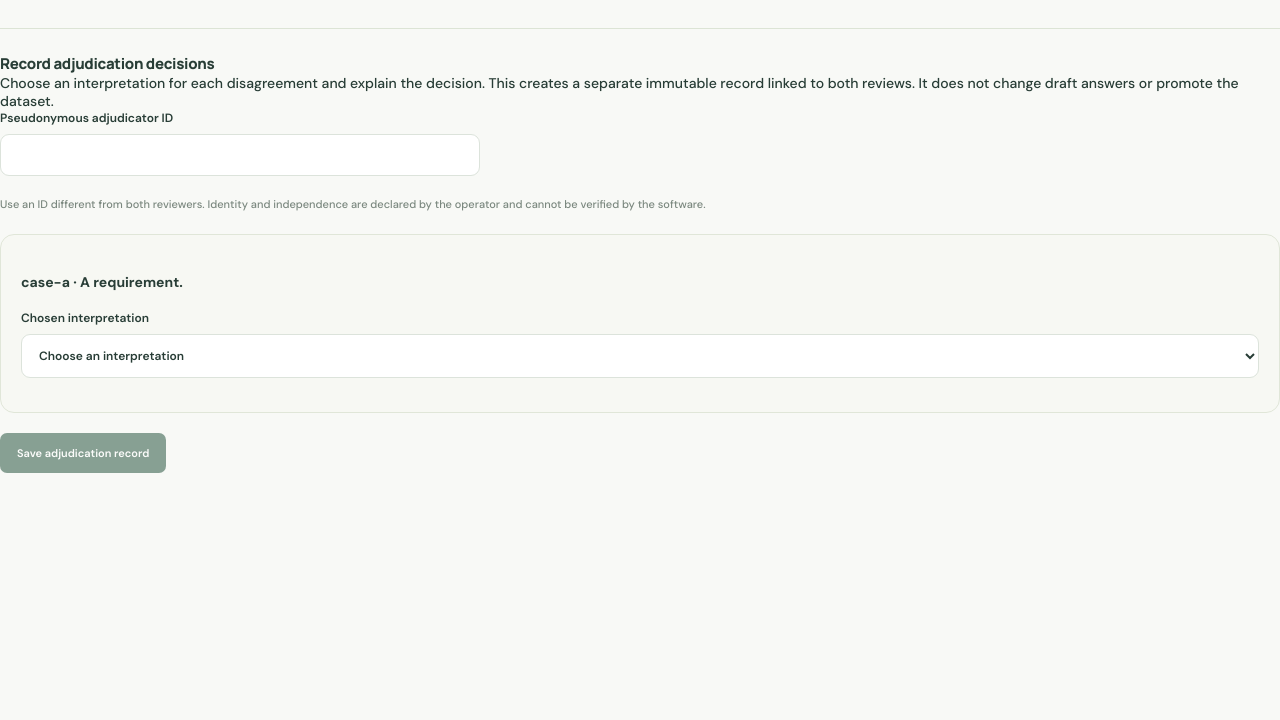
invalid custom JSON is rejected before submission
Type "third-reviewer" into the field labelled "Pseudonymous adjudicator ID" at {"x": 240, "y": 155}, box [0,134,480,176]
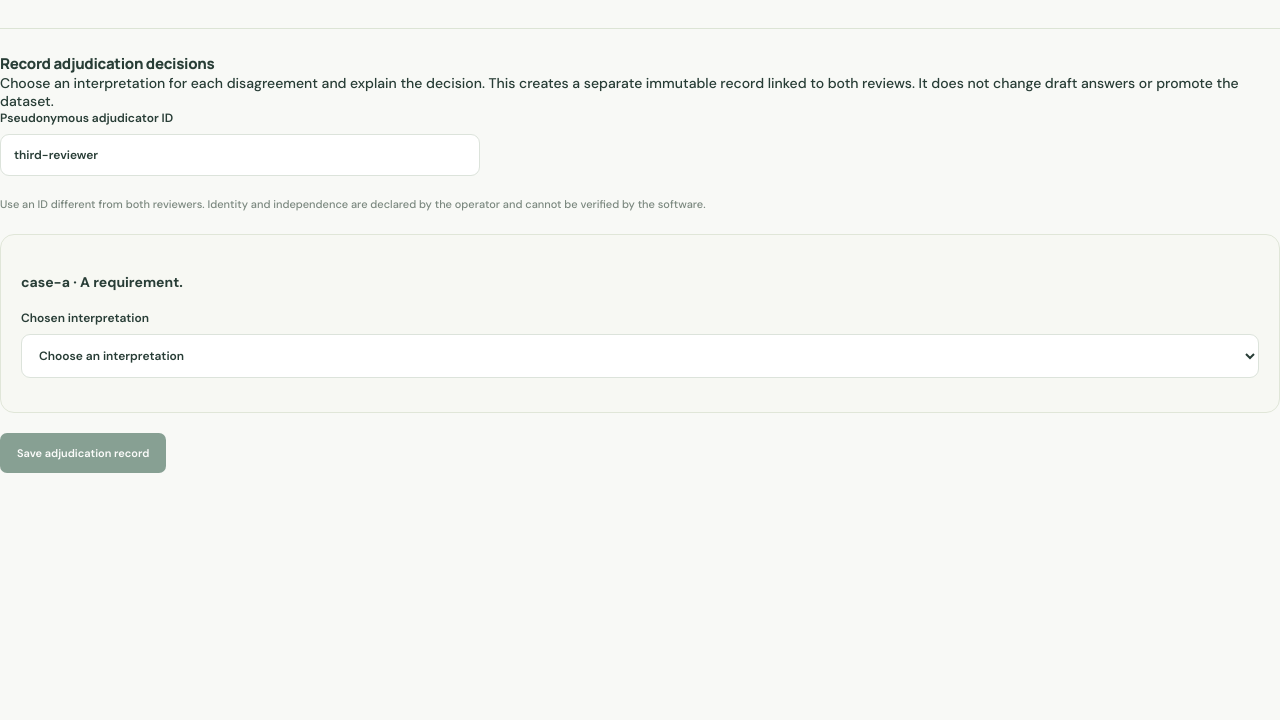
Select "Custom corrected annotation" in the dropdown named "Chosen interpretation case-a" at {"x": 640, "y": 356}, box [21,334,1259,378]
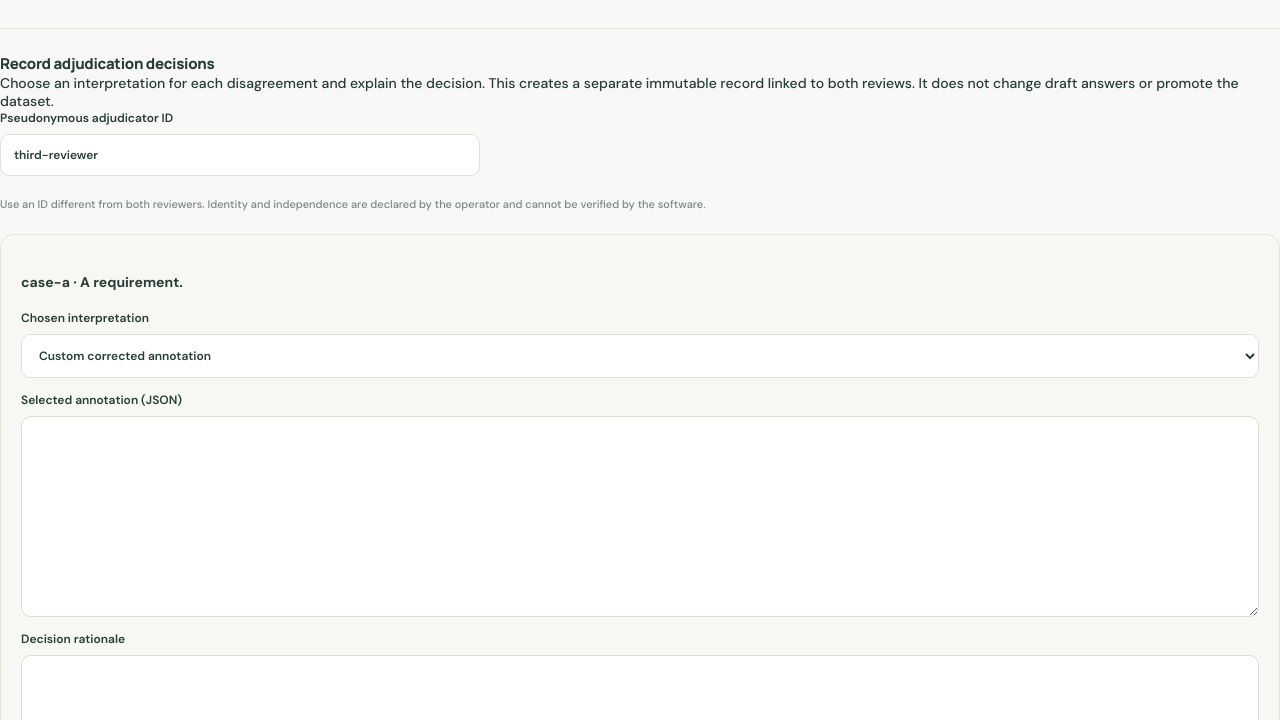
Type "not json" into the text box named "Annotation case-a" at {"x": 640, "y": 517}, box [21,416,1259,617]
(page scrolled)
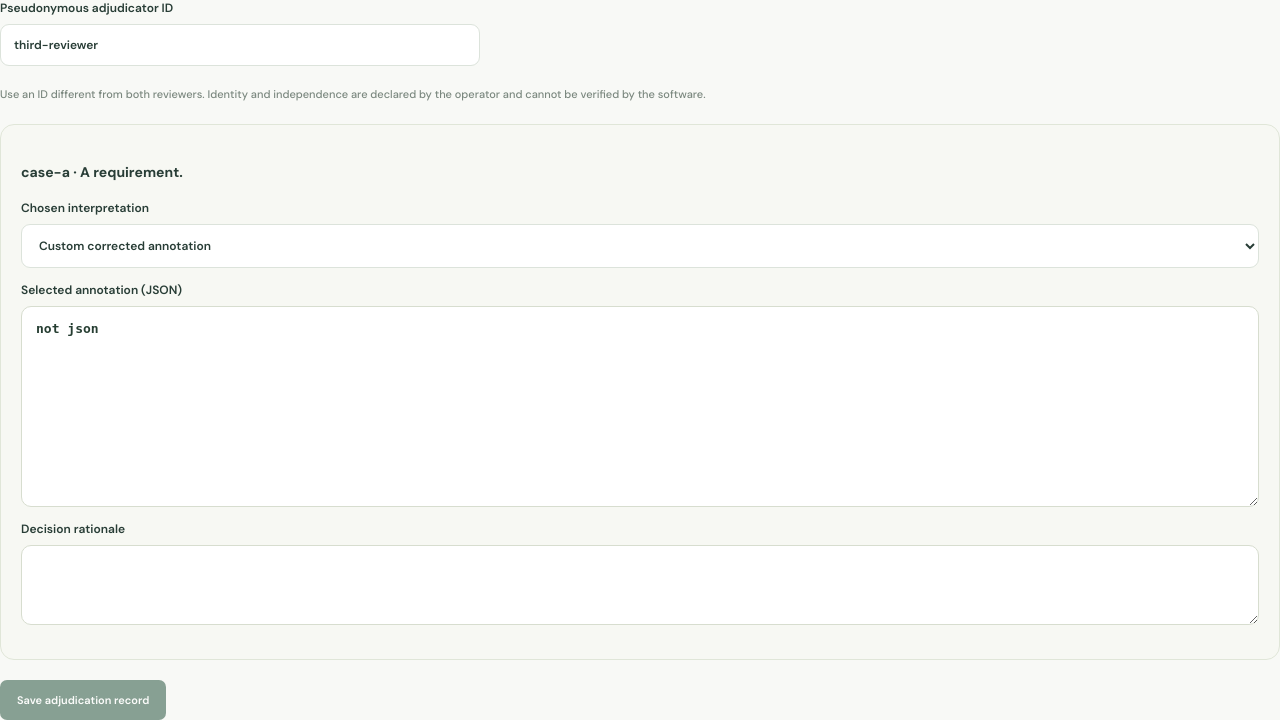
Type "Rationale." into the text box named "Decision rationale case-a" at {"x": 640, "y": 585}, box [21,545,1259,625]
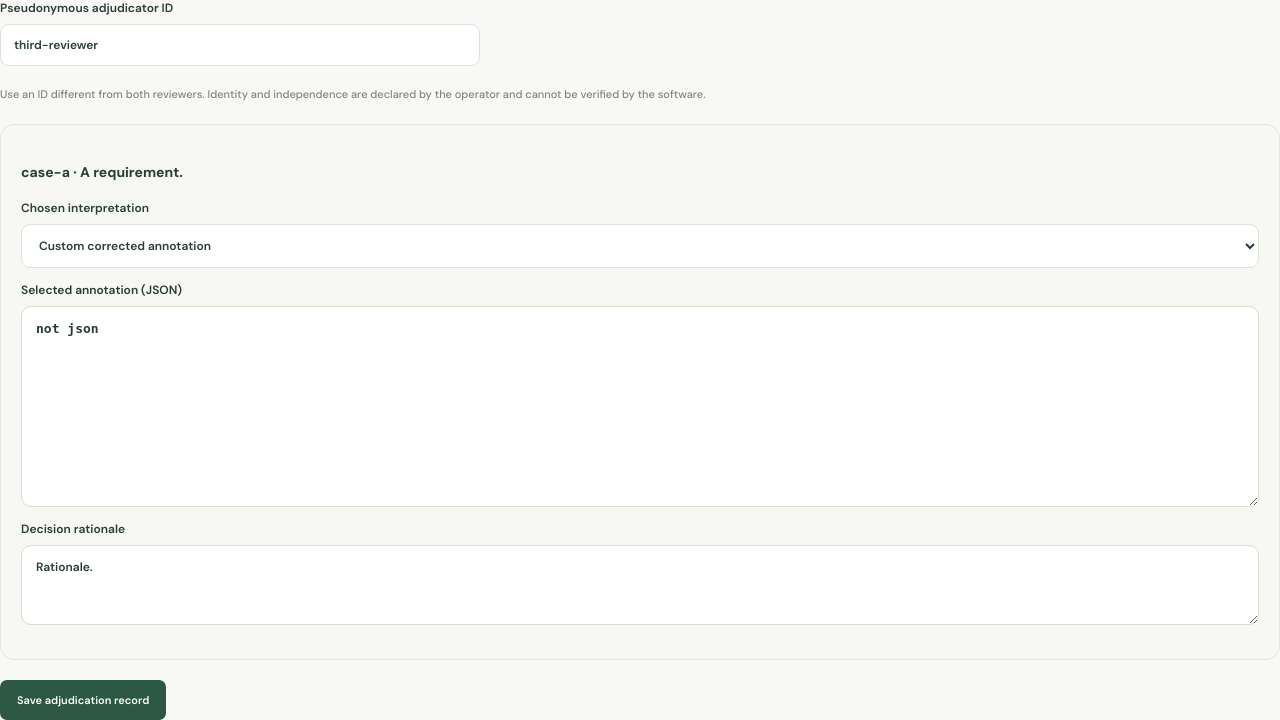
Click the button "Save adjudication record" at {"x": 83, "y": 700}, box [0,680,166,719]
(page scrolled)
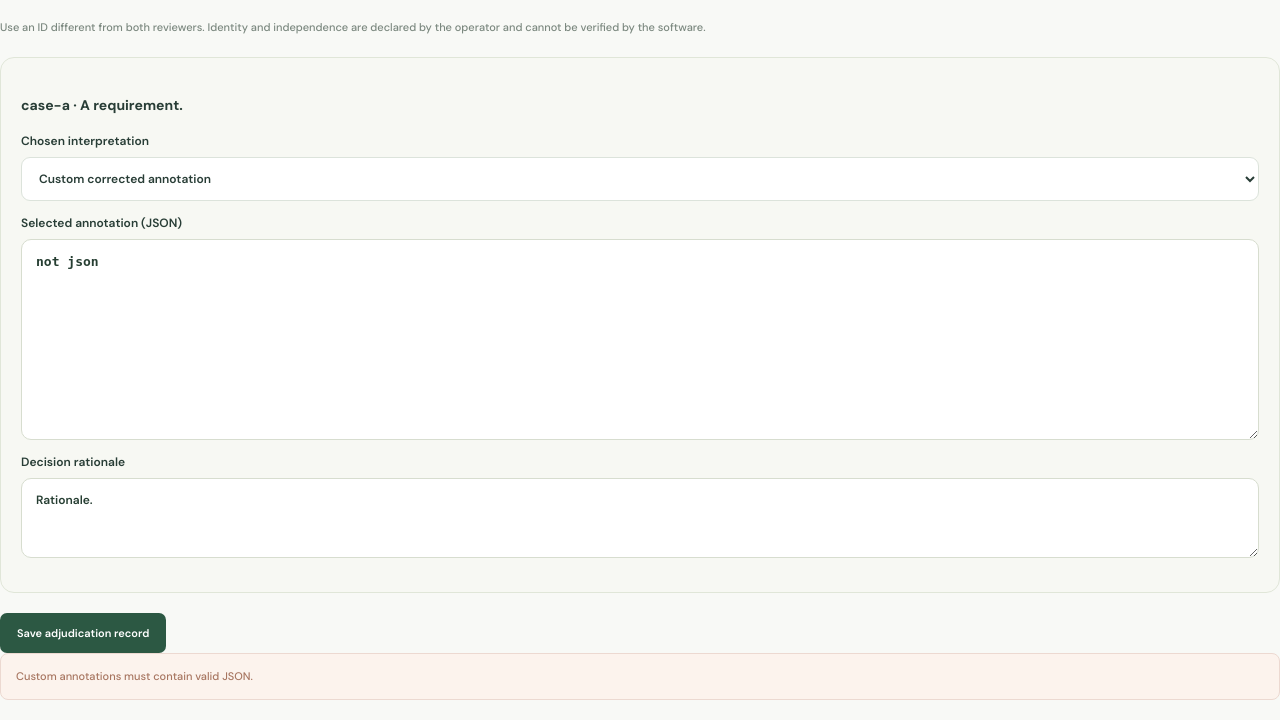
Expected: the message shows "valid JSON", [16,669,253,683]
